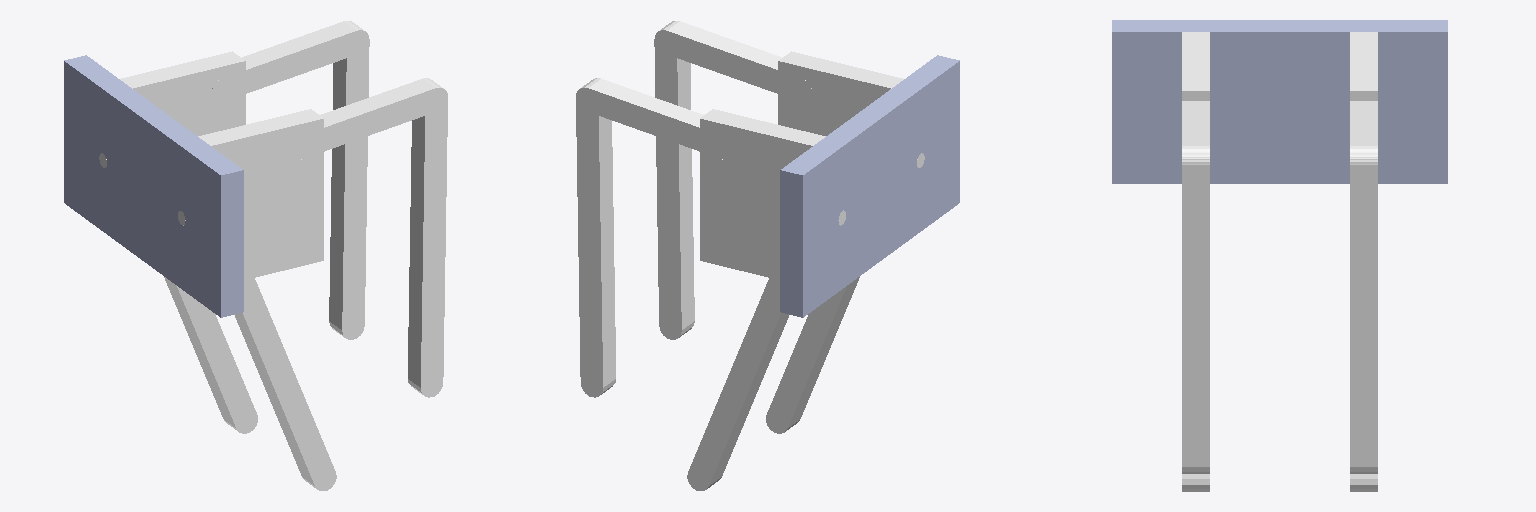
The robot description file, URDF, robot "leg-1":
<?xml version="1.0" encoding="utf-8"?>
<!-- This URDF was automatically created by SolidWorks to URDF Exporter! Originally created by [author] ([email redacted]) 
     Commit Version: 1.6.0-1-g15f4949  Build Version: 1.6.7594.29634
     For more information, please see http://wiki.ros.org/sw_urdf_exporter -->
<robot
  name="leg-1">
  <link
    name="base_link">
    <inertial>
      <origin
        xyz="0.00500000000000839 -1.52655665885959E-16 2.26901830657766E-15"
        rpy="0 0 0" />
      <mass
        value="0.0714345133223539" />
      <inertia
        ixx="0.000107488517300069"
        ixy="-3.46140116465866E-22"
        ixz="2.79534425121075E-22"
        iyy="2.21940152659949E-05"
        iyz="4.12419664391761E-21"
        izz="8.64850772561134E-05" />
    </inertial>
    <visual>
      <origin
        xyz="0 0 0"
        rpy="0 0 0" />
      <geometry>
        <mesh
          filename="package://leg-1/meshes/base_link.STL" />
      </geometry>
      <material
        name="">
        <color
          rgba="0.792156862745098 0.819607843137255 0.933333333333333 1" />
      </material>
    </visual>
    <collision>
      <origin
        xyz="0 0 0"
        rpy="0 0 0" />
      <geometry>
        <mesh
          filename="package://leg-1/meshes/base_link.STL" />
      </geometry>
    </collision>
  </link>
  <link
    name="L_L_0">
    <inertial>
      <origin
        xyz="0.0347045724498886 6.93889390390723E-18 0"
        rpy="0 0 0" />
      <mass
        value="0.0287119470120282" />
      <inertia
        ixx="8.60004636787432E-06"
        ixy="-8.40317402851747E-22"
        ixz="4.7123889803847E-07"
        iyy="1.45035728084546E-05"
        iyz="-9.0904602929962E-22"
        izz="6.37861884682507E-06" />
    </inertial>
    <visual>
      <origin
        xyz="0 0 0"
        rpy="0 0 0" />
      <geometry>
        <mesh
          filename="package://leg-1/meshes/L_L_0.STL" />
      </geometry>
      <material
        name="">
        <color
          rgba="1 1 1 1" />
      </material>
    </visual>
    <collision>
      <origin
        xyz="0 0 0"
        rpy="0 0 0" />
      <geometry>
        <mesh
          filename="package://leg-1/meshes/L_L_0.STL" />
      </geometry>
    </collision>
  </link>
  <joint
    name="J_L_0"
    type="continuous">
    <origin
      xyz="0 -0.0300000000000002 0"
      rpy="0 0 0" />
    <parent
      link="base_link" />
    <child
      link="L_L_0" />
    <axis
      xyz="-1 0 0" />
  </joint>
  <link
    name="L_L_1">
    <inertial>
      <origin
        xyz="0.055 -2.60208521396521E-18 2.77555756156289E-16"
        rpy="0 0 0" />
      <mass
        value="0.0117853981633975" />
      <inertia
        ixx="1.94787056549548E-07"
        ixy="1.49554254749587E-21"
        ixz="-3.71771611790501E-22"
        iyy="1.37539498341602E-05"
        iyz="-5.50007019477419E-23"
        izz="1.37523135879864E-05" />
    </inertial>
    <visual>
      <origin
        xyz="0 0 0"
        rpy="0 0 0" />
      <geometry>
        <mesh
          filename="package://leg-1/meshes/L_L_1.STL" />
      </geometry>
      <material
        name="">
        <color
          rgba="1 1 1 1" />
      </material>
    </visual>
    <collision>
      <origin
        xyz="0 0 0"
        rpy="0 0 0" />
      <geometry>
        <mesh
          filename="package://leg-1/meshes/L_L_1.STL" />
      </geometry>
    </collision>
  </link>
  <joint
    name="J_L_1"
    type="continuous">
    <origin
      xyz="0.02 0 -0.02"
      rpy="1.5707963267949 1.1930252649831 0" />
    <parent
      link="L_L_0" />
    <child
      link="L_L_1" />
    <axis
      xyz="0 0 -1" />
  </joint>
  <link
    name="L_L_2">
    <inertial>
      <origin
        xyz="0.0300000000000002 -1.04083408558608E-16 2.42861286636753E-16"
        rpy="0 0 0" />
      <mass
        value="0.00678539816339746" />
      <inertia
        ixx="1.11453723216213E-07"
        ixy="4.38405724653105E-23"
        ixz="1.06732828936123E-22"
        iyy="2.66831207027392E-06"
        iyz="-1.08522797058199E-23"
        izz="2.66667582410018E-06" />
    </inertial>
    <visual>
      <origin
        xyz="0 0 0"
        rpy="0 0 0" />
      <geometry>
        <mesh
          filename="package://leg-1/meshes/L_L_2.STL" />
      </geometry>
      <material
        name="">
        <color
          rgba="1 1 1 1" />
      </material>
    </visual>
    <collision>
      <origin
        xyz="0 0 0"
        rpy="0 0 0" />
      <geometry>
        <mesh
          filename="package://leg-1/meshes/L_L_2.STL" />
      </geometry>
    </collision>
  </link>
  <joint
    name="J_L_2"
    type="continuous">
    <origin
      xyz="0.05 0 0.02"
      rpy="1.5707963267949 -0.105433031631919 0" />
    <parent
      link="L_L_0" />
    <child
      link="L_L_2" />
    <axis
      xyz="0 0 -1" />
  </joint>
  <link
    name="L_L_3">
    <inertial>
      <origin
        xyz="0.0599999999999999 -1.38777878078145E-17 2.42861286636753E-16"
        rpy="0 0 0" />
      <mass
        value="0.0127853981633975" />
      <inertia
        ixx="2.11453723216213E-07"
        ixy="-6.47268829322744E-23"
        ixz="1.8009833248511E-22"
        iyy="1.7538887111447E-05"
        iyz="2.88084954994868E-24"
        izz="1.75372508652733E-05" />
    </inertial>
    <visual>
      <origin
        xyz="0 0 0"
        rpy="0 0 0" />
      <geometry>
        <mesh
          filename="package://leg-1/meshes/L_L_3.STL" />
      </geometry>
      <material
        name="">
        <color
          rgba="1 1 1 1" />
      </material>
    </visual>
    <collision>
      <origin
        xyz="0 0 0"
        rpy="0 0 0" />
      <geometry>
        <mesh
          filename="package://leg-1/meshes/L_L_3.STL" />
      </geometry>
    </collision>
  </link>
  <joint
    name="J_L_3"
    type="continuous">
    <origin
      xyz="0.0600000000000002 0 0"
      rpy="0 0 -1.69372933441083" />
    <parent
      link="L_L_2" />
    <child
      link="L_L_3" />
    <axis
      xyz="0 0 -1" />
  </joint>
  <link
    name="L_R_0">
    <inertial>
      <origin
        xyz="0.0347045724498886 1.38777878078145E-17 6.93889390390723E-18"
        rpy="0 0 0" />
      <mass
        value="0.0287119470120282" />
      <inertia
        ixx="8.60004636787433E-06"
        ixy="3.66338637434803E-22"
        ixz="4.71238898038473E-07"
        iyy="1.45035728084546E-05"
        iyz="-1.00827065219892E-21"
        izz="6.37861884682508E-06" />
    </inertial>
    <visual>
      <origin
        xyz="0 0 0"
        rpy="0 0 0" />
      <geometry>
        <mesh
          filename="package://leg-1/meshes/L_R_0.STL" />
      </geometry>
      <material
        name="">
        <color
          rgba="1 1 1 1" />
      </material>
    </visual>
    <collision>
      <origin
        xyz="0 0 0"
        rpy="0 0 0" />
      <geometry>
        <mesh
          filename="package://leg-1/meshes/L_R_0.STL" />
      </geometry>
    </collision>
  </link>
  <joint
    name="J_R_0"
    type="continuous">
    <origin
      xyz="0 0.0299999999999998 0"
      rpy="0 0 0" />
    <parent
      link="base_link" />
    <child
      link="L_R_0" />
    <axis
      xyz="-1 0 0" />
  </joint>
  <link
    name="L_R_1">
    <inertial>
      <origin
        xyz="0.055 -2.60208521396521E-18 2.77555756156289E-17"
        rpy="0 0 0" />
      <mass
        value="0.0117853981633974" />
      <inertia
        ixx="1.94787056549545E-07"
        ixy="6.81596824743695E-22"
        ixz="-2.13869524916916E-22"
        iyy="1.37539498341602E-05"
        iyz="-4.95780048310639E-24"
        izz="1.37523135879864E-05" />
    </inertial>
    <visual>
      <origin
        xyz="0 0 0"
        rpy="0 0 0" />
      <geometry>
        <mesh
          filename="package://leg-1/meshes/L_R_1.STL" />
      </geometry>
      <material
        name="">
        <color
          rgba="1 1 1 1" />
      </material>
    </visual>
    <collision>
      <origin
        xyz="0 0 0"
        rpy="0 0 0" />
      <geometry>
        <mesh
          filename="package://leg-1/meshes/L_R_1.STL" />
      </geometry>
    </collision>
  </link>
  <joint
    name="J_R_1"
    type="continuous">
    <origin
      xyz="0.02 0 -0.0199999999999999"
      rpy="-1.57079632679489 1.1930252649831 0" />
    <parent
      link="L_R_0" />
    <child
      link="L_R_1" />
    <axis
      xyz="0 0 1" />
  </joint>
  <link
    name="L_R_2">
    <inertial>
      <origin
        xyz="0.0300000000000002 -9.71445146547012E-17 -2.77555756156289E-17"
        rpy="0 0 0" />
      <mass
        value="0.00678539816339745" />
      <inertia
        ixx="1.11453723216213E-07"
        ixy="0"
        ixz="1.44873085317511E-22"
        iyy="2.66831207027392E-06"
        iyz="-2.54756782238847E-23"
        izz="2.66667582410017E-06" />
    </inertial>
    <visual>
      <origin
        xyz="0 0 0"
        rpy="0 0 0" />
      <geometry>
        <mesh
          filename="package://leg-1/meshes/L_R_2.STL" />
      </geometry>
      <material
        name="">
        <color
          rgba="1 1 1 1" />
      </material>
    </visual>
    <collision>
      <origin
        xyz="0 0 0"
        rpy="0 0 0" />
      <geometry>
        <mesh
          filename="package://leg-1/meshes/L_R_2.STL" />
      </geometry>
    </collision>
  </link>
  <joint
    name="J_R_2"
    type="continuous">
    <origin
      xyz="0.05 0 0.02"
      rpy="1.5707963267949 -0.105433031631919 0" />
    <parent
      link="L_R_0" />
    <child
      link="L_R_2" />
    <axis
      xyz="0 0 -1" />
  </joint>
  <link
    name="L_R_3">
    <inertial>
      <origin
        xyz="0.06 1.38777878078145E-17 -5.55111512312578E-17"
        rpy="0 0 0" />
      <mass
        value="0.0127853981633974" />
      <inertia
        ixx="2.11453723216212E-07"
        ixy="3.48656628191101E-22"
        ixz="1.27630711144238E-22"
        iyy="1.7538887111447E-05"
        iyz="8.6574693929884E-24"
        izz="1.75372508652733E-05" />
    </inertial>
    <visual>
      <origin
        xyz="0 0 0"
        rpy="0 0 0" />
      <geometry>
        <mesh
          filename="package://leg-1/meshes/L_R_3.STL" />
      </geometry>
      <material
        name="">
        <color
          rgba="1 1 1 1" />
      </material>
    </visual>
    <collision>
      <origin
        xyz="0 0 0"
        rpy="0 0 0" />
      <geometry>
        <mesh
          filename="package://leg-1/meshes/L_R_3.STL" />
      </geometry>
    </collision>
  </link>
  <joint
    name="J_R_3"
    type="continuous">
    <origin
      xyz="0.0600000000000002 0 0"
      rpy="0 0 -1.69372933441082" />
    <parent
      link="L_R_2" />
    <child
      link="L_R_3" />
    <axis
      xyz="0 0 -1" />
  </joint>
</robot>

--- What the picture shows (computed from the rendered views, not written in the file) ---
3 views of the same robot in one strip: view 1: azimuth 30°, elevation 25°; view 2: azimuth 150°, elevation 25°; view 3: azimuth 270°, elevation 25° (orthographic).
Robot: leg-1 — 9 links, 8 joints (8 continuous); root link base_link; default pose: every joint at zero.
Links seen in each view (by area): view 1: base_link, L_L_0, L_L_3, L_R_3, L_L_1, L_R_0, L_L_2, L_R_1, L_R_2; view 2: base_link, L_R_0, L_R_3, L_L_3, L_R_1, L_L_0, L_L_1, L_R_2, L_L_2; view 3: base_link, L_L_3, L_R_3, L_L_0, L_R_0, L_L_2, L_R_2.
Link boxes in pixels (<box>): base_link: <box>64,55,243,317</box>; L_L_0: <box>178,109,323,279</box>; L_L_3: <box>408,79,447,397</box>; L_R_3: <box>329,25,369,339</box>; L_L_1: <box>235,253,336,490</box>; L_R_0: <box>99,51,245,167</box>; L_L_2: <box>290,78,447,159</box>; L_R_1: <box>164,277,257,433</box>; L_R_2: <box>212,21,367,101</box>; base_link: <box>780,55,959,317</box>; L_R_0: <box>700,109,845,279</box>; L_R_3: <box>576,79,615,397</box>; L_L_3: <box>654,25,694,339</box>; L_R_1: <box>687,253,788,490</box>; L_L_0: <box>778,51,924,167</box>; L_L_1: <box>766,277,859,433</box>; L_R_2: <box>576,78,733,159</box>; L_L_2: <box>656,21,811,101</box>; base_link: <box>1112,20,1447,183</box>; L_L_3: <box>1182,153,1209,473</box>; L_R_3: <box>1350,153,1377,473</box>; L_L_0: <box>1182,32,1209,100</box>; L_R_0: <box>1350,32,1377,100</box>; L_L_2: <box>1182,101,1209,163</box>; L_R_2: <box>1350,101,1377,163</box>.
Bounding box of the posed robot: 0.1147 × 0.12 × 0.1585 m (x, y, z).
9 mesh visuals loaded from 9 distinct referenced files (9 binary STL).